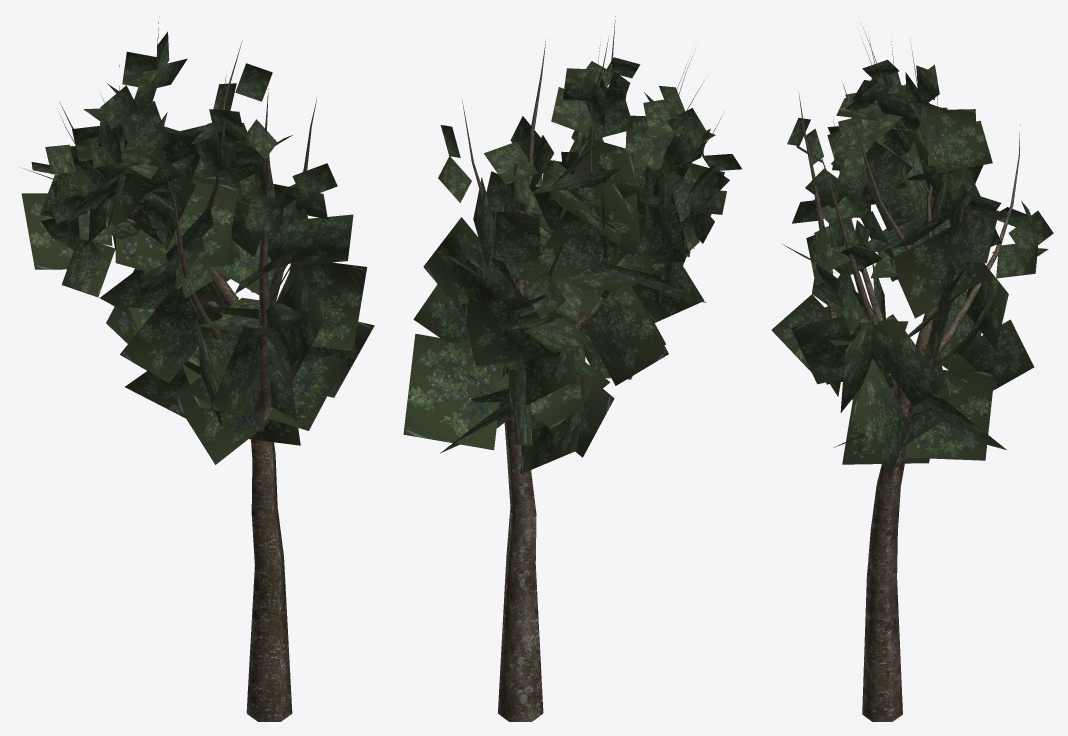
Rendered from Tree.obj.
3 renders of one model, left to right at view 1: azimuth 30°, elevation 25°; view 2: azimuth 150°, elevation 25°; view 3: azimuth 270°, elevation 25°, orthographic. The views are drawn at different scales.
Visible parts, largest first — view 1: Tree; view 2: Tree; view 3: Tree.
Part boxes in pixels (left/top/right/bottom): Tree: left=21, top=16, right=374, bottom=721; Tree: left=403, top=16, right=741, bottom=721; Tree: left=771, top=23, right=1053, bottom=721.
Size of the model in its own units: 6.44 by 13.99 by 5.6.
